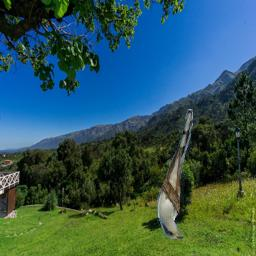Cuckoo: (157, 109, 193, 239)
